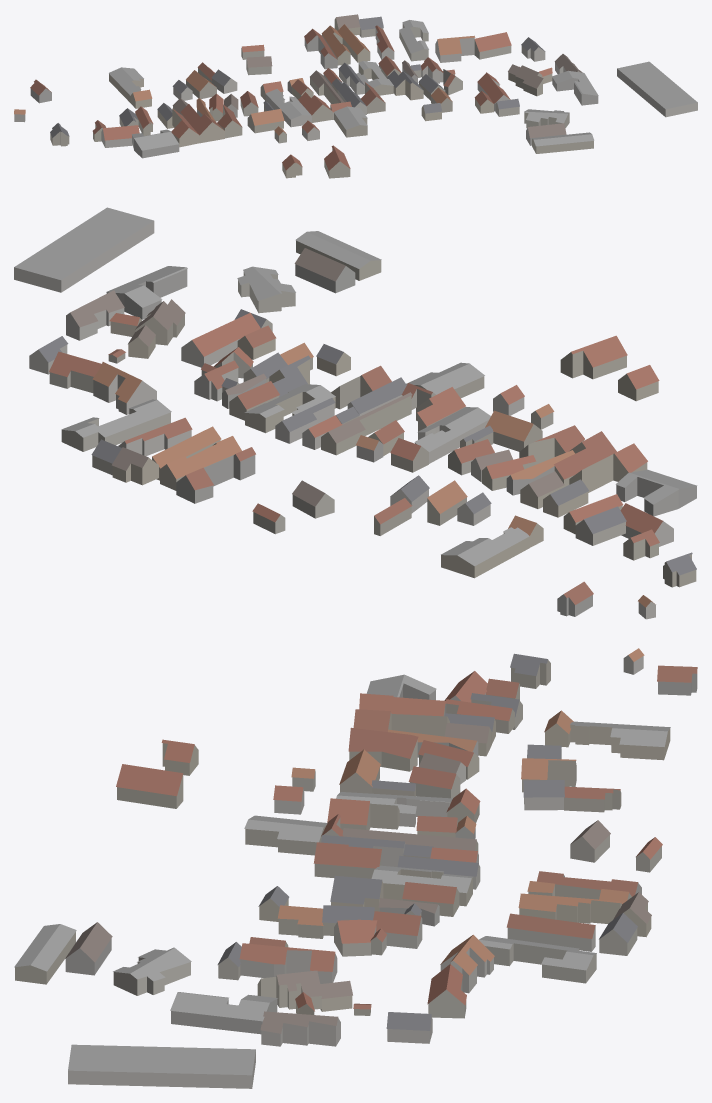
The picture shows the model from 3 angles, top to bottom: view 1: azimuth 30°, elevation 25°; view 2: azimuth 150°, elevation 25°; view 3: azimuth 270°, elevation 25°; orthographic projection. The views are drawn at different scales.
Visible parts, largest first — view 1: buildings; view 2: buildings; view 3: buildings.
Part boxes in pixels (bbox=[...]): buildings: bbox=[14, 14, 697, 178]; buildings: bbox=[14, 207, 697, 619]; buildings: bbox=[14, 648, 697, 1088].
Size of the model in its own units: 411 by 24.94 by 273.
